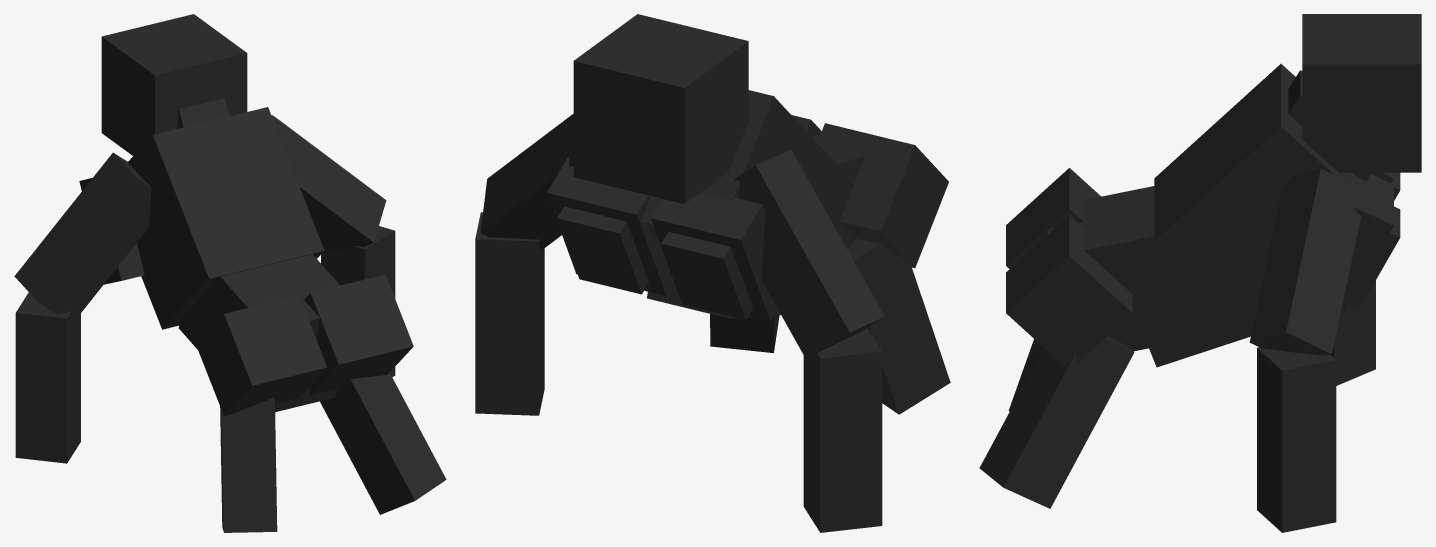
Rendered from egorilla.gltf.
3 views of the same model, side by side, from view 1: azimuth 30°, elevation 25°; view 2: azimuth 150°, elevation 25°; view 3: azimuth 270°, elevation 25° (orthographic). The views are drawn at different scales.
Parts seen in each view (by area): view 1: body 1, head, arm 3, butt 1, arm 4, leg 1, butt 2, leg 2, arm 1, body 2, arm 2, neck (+1 smaller); view 2: head, arm 3, arm 4, arm 2, butt 1, leg 2, arm 1, breast 2, body 1, breast 1, breast 2.5, breast 1.5 (+3 smaller); view 3: body 1, head, arm 1, arm 2, leg 1, body 2, butt 2, butt 1, breast 1, arm 4, breast 3, breast 1.5 (+2 smaller).
Boxes of the visible parts, x1=… form: body 1: x1=127, y1=107, x2=324, y2=329; head: x1=101, y1=14, x2=247, y2=155; arm 3: x1=14, y1=152, x2=151, y2=323; butt 1: x1=196, y1=295, x2=327, y2=416; arm 4: x1=15, y1=292, x2=80, y2=463; leg 1: x1=320, y1=372, x2=446, y2=514; butt 2: x1=304, y1=274, x2=413, y2=394; leg 2: x1=220, y1=397, x2=277, y2=532; arm 1: x1=271, y1=115, x2=386, y2=253; body 2: x1=178, y1=254, x2=339, y2=411; arm 2: x1=321, y1=226, x2=395, y2=376; neck: x1=178, y1=98, x2=229, y2=128; head: x1=573, y1=14, x2=748, y2=203; arm 3: x1=734, y1=150, x2=884, y2=359; arm 4: x1=803, y1=328, x2=882, y2=532; arm 2: x1=475, y1=212, x2=544, y2=415; butt 1: x1=817, y1=123, x2=948, y2=268; leg 2: x1=847, y1=239, x2=950, y2=414; arm 1: x1=480, y1=114, x2=573, y2=250; breast 2: x1=651, y1=193, x2=777, y2=321; body 1: x1=641, y1=90, x2=841, y2=312; breast 1: x1=547, y1=157, x2=674, y2=295; breast 2.5: x1=661, y1=232, x2=752, y2=319; breast 1.5: x1=557, y1=206, x2=648, y2=294; body 1: x1=1154, y1=64, x2=1357, y2=329; head: x1=1302, y1=14, x2=1421, y2=172; arm 1: x1=1249, y1=168, x2=1366, y2=355; arm 2: x1=1257, y1=347, x2=1336, y2=532; leg 1: x1=979, y1=336, x2=1134, y2=508; body 2: x1=1048, y1=186, x2=1248, y2=351; butt 2: x1=1006, y1=215, x2=1132, y2=366; butt 1: x1=1006, y1=168, x2=1100, y2=268; breast 1: x1=1339, y1=174, x2=1393, y2=320; arm 4: x1=1331, y1=280, x2=1375, y2=385; breast 3: x1=1149, y1=327, x2=1251, y2=367; breast 1.5: x1=1348, y1=206, x2=1400, y2=309.
Bounding box in the file's own units: 1.93 × 1.94 × 1.85.
Materials: 1 (1 with a texture image).
